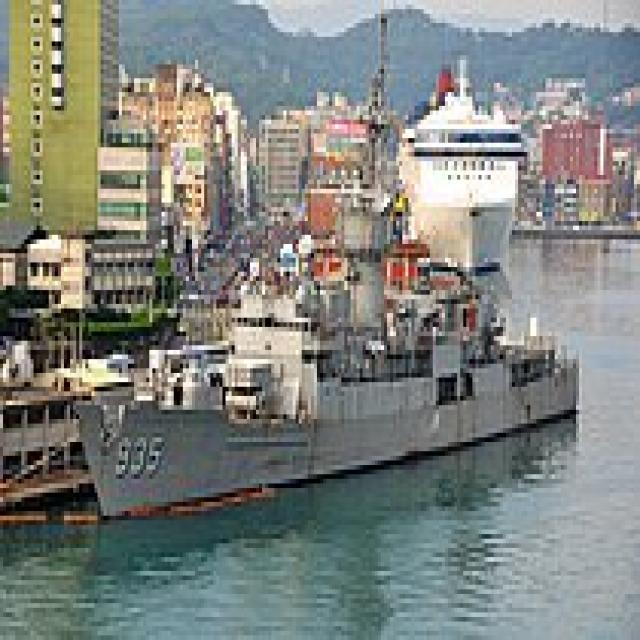Warship: (64, 157, 582, 516)
